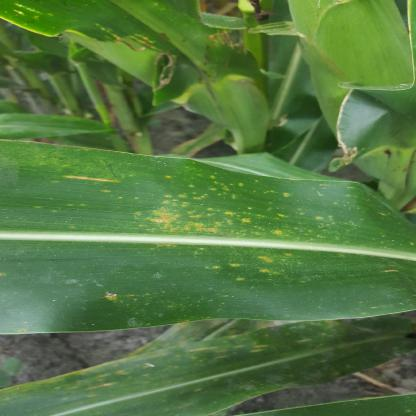Corn rust leaf: (0, 136, 416, 338)
